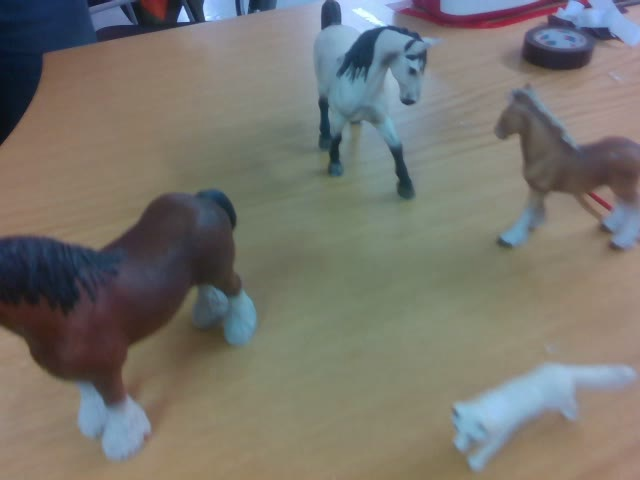toy: (311, 1, 443, 201), (449, 361, 636, 473)
